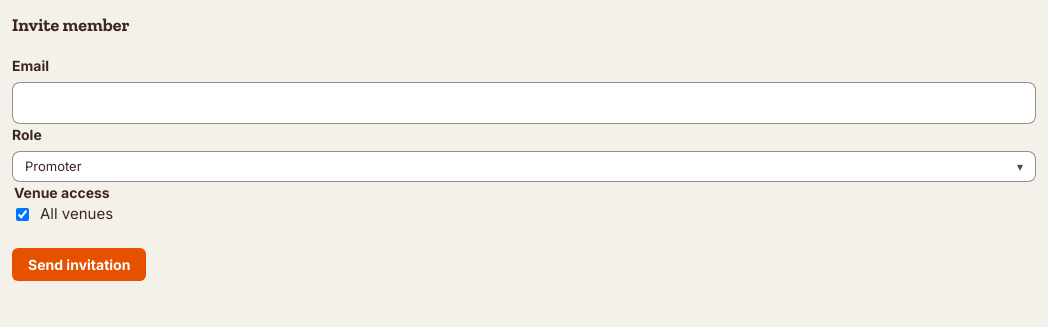
InviteMemberForm › validates email before submit
What coordinates should you click on to do the following:
click the button with test id "invite-member-submit"
I would click on:
 (79, 264)
Its box is [12,248,146,280].
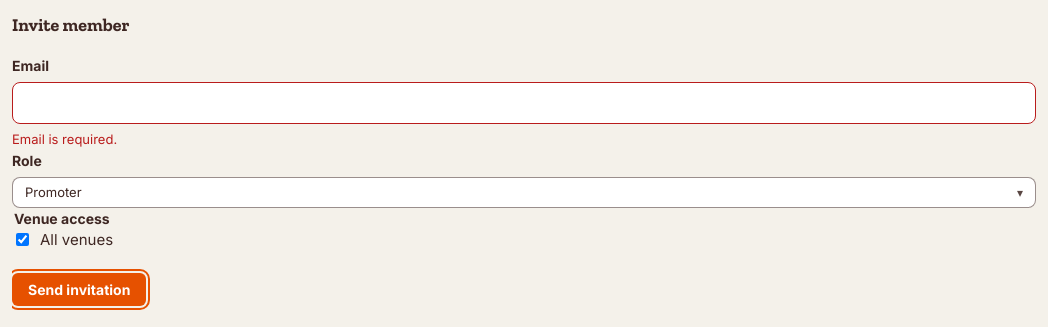
Check: the message reads "Email is required.", box [12,131,117,147]
